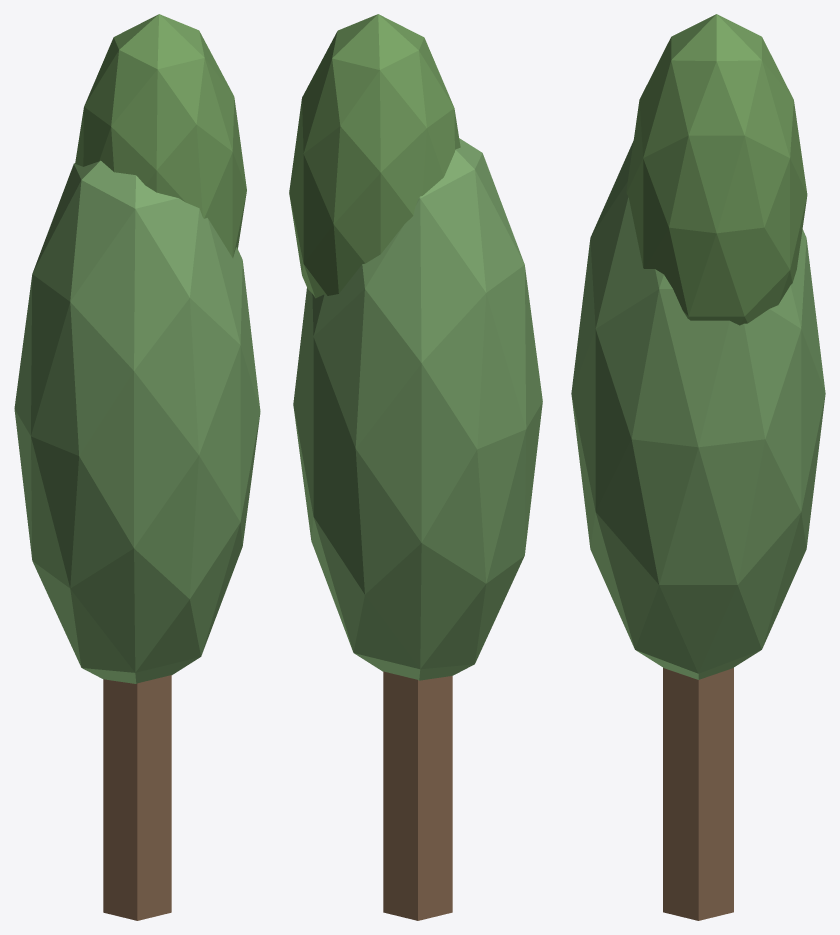
Rendered from peuplier.glb.
3 views of the same model, side by side, from view 1: azimuth 30°, elevation 25°; view 2: azimuth 150°, elevation 25°; view 3: azimuth 270°, elevation 25° (orthographic). The views are drawn at different scales.
Visible parts, largest first — view 1: part_00; view 2: part_00; view 3: part_00.
Part boxes in pixels (x1,y1,x2,y2): part_00: (14,14,260,920); part_00: (289,14,542,920); part_00: (571,14,825,920).
Size of the model in its own units: 0.28 by 1.1 by 0.28.
